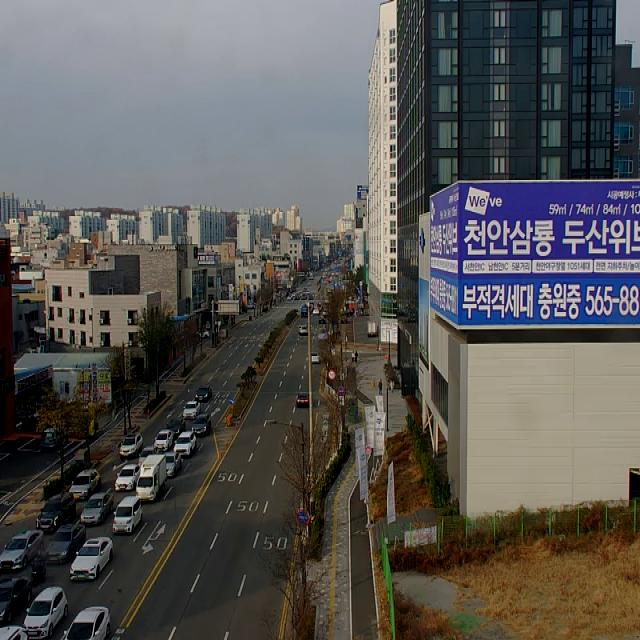Car: (22, 586, 68, 640), (0, 529, 44, 573), (70, 537, 113, 582), (59, 605, 110, 640), (36, 492, 76, 533), (46, 524, 86, 565), (0, 578, 31, 625), (80, 493, 114, 526), (113, 496, 142, 534), (69, 469, 101, 500), (115, 466, 140, 492), (40, 427, 66, 451), (173, 431, 196, 457), (120, 433, 143, 457), (164, 452, 181, 478), (154, 429, 173, 452), (0, 625, 29, 640), (192, 415, 210, 437), (166, 418, 185, 437), (139, 445, 159, 463), (183, 402, 200, 419), (196, 386, 212, 402), (296, 392, 310, 407), (311, 352, 320, 364), (196, 330, 209, 338), (299, 325, 308, 336)
Truck: (136, 454, 166, 504), (368, 322, 377, 336)
